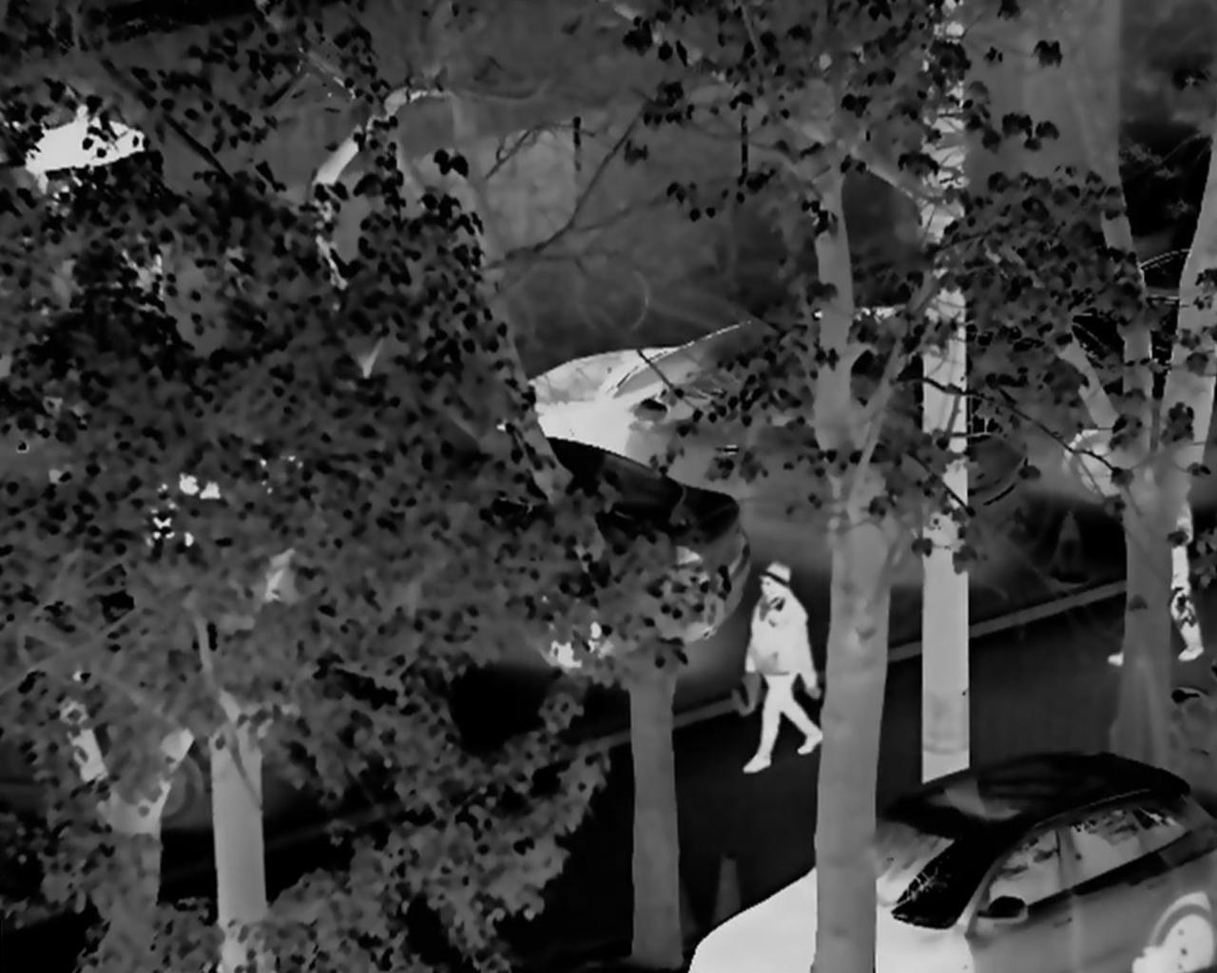person: (732, 554, 827, 771), (1107, 478, 1201, 671)
